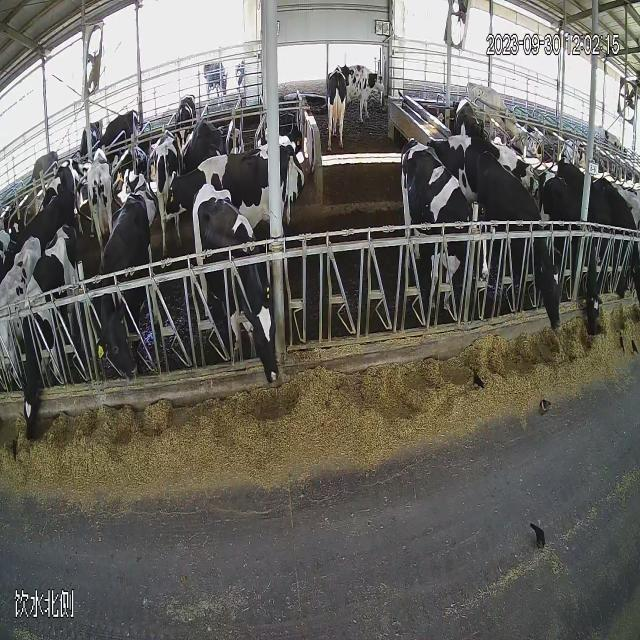feeding: (10, 215, 91, 480), (471, 140, 571, 350), (534, 152, 608, 359), (342, 54, 391, 130)
standing: (181, 175, 289, 410), (392, 130, 496, 340), (84, 180, 167, 423)
